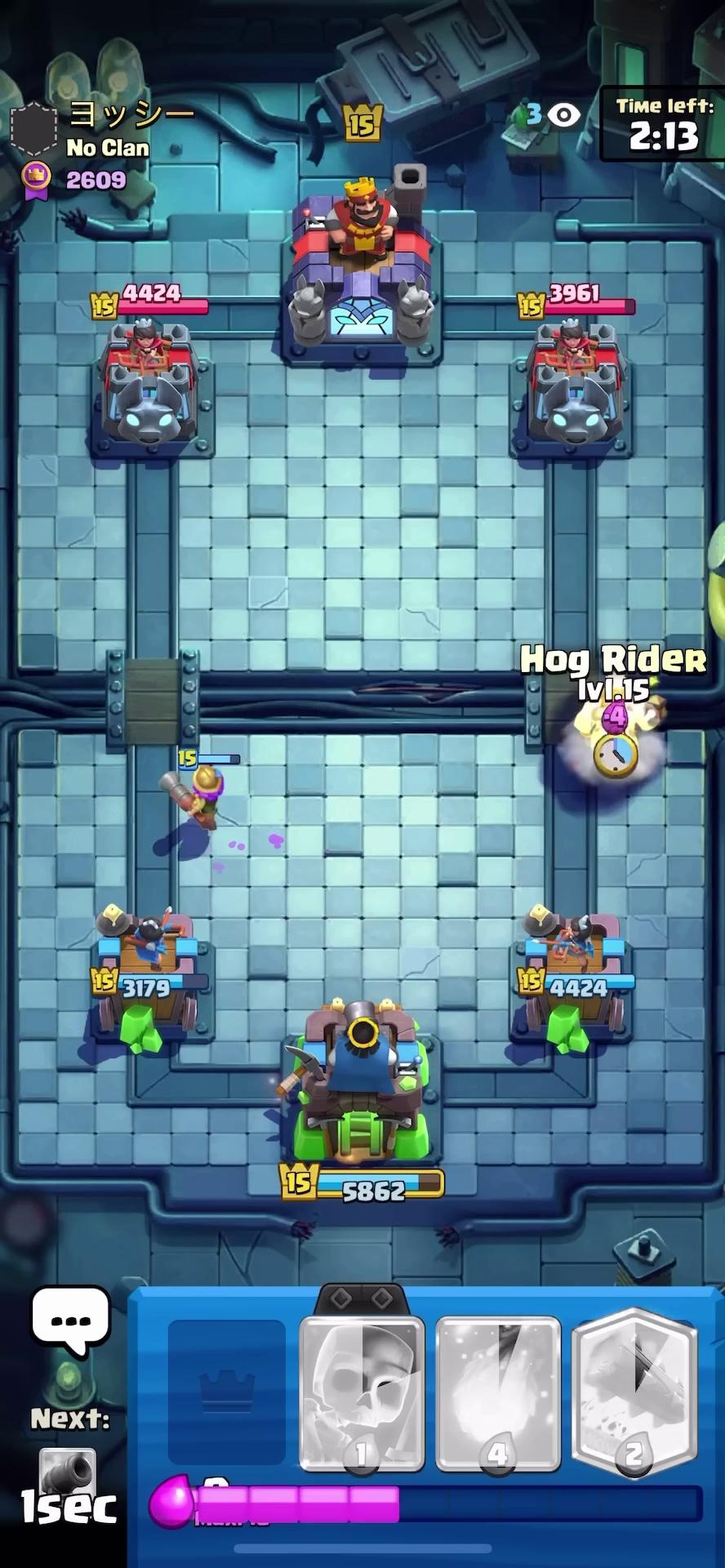ice_golem: (563, 682, 661, 741)
musketeer: (137, 735, 261, 829)
